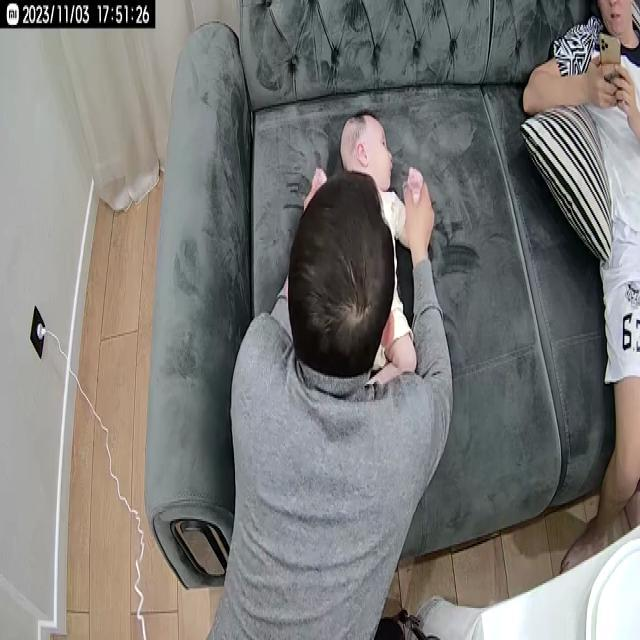baby: (304, 110, 426, 390)
